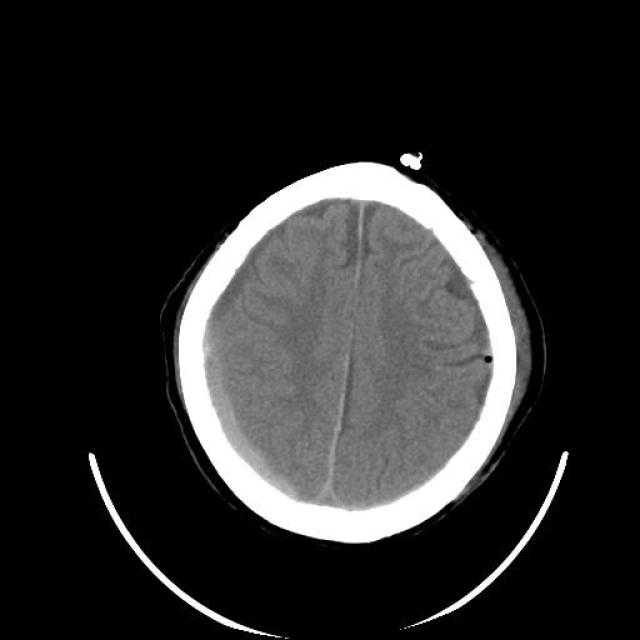Subdural: (208, 332, 298, 532)
